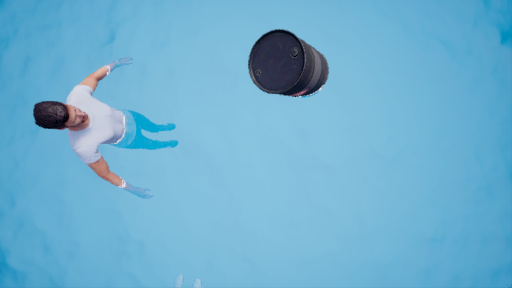person: (35, 58, 203, 196)
